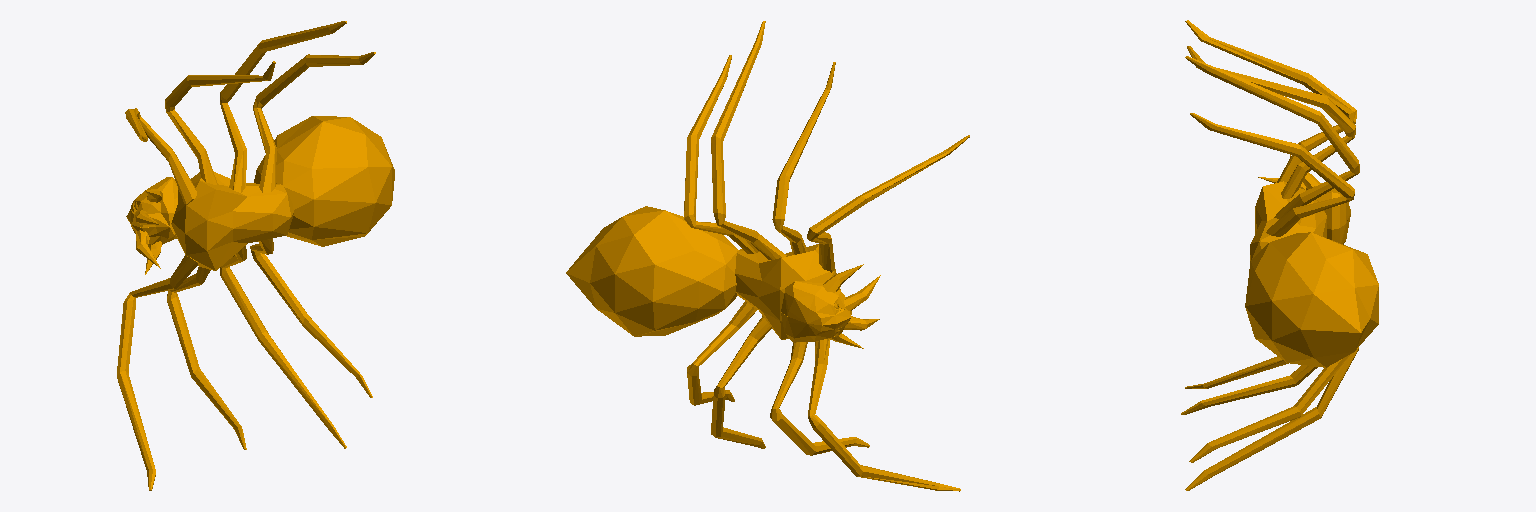
The robot description file, URDF, robot "assimp_spider":
<robot name="assimp_spider">
  <link name="base">
    <visual><geometry><mesh filename="assimp_spider.normalized.obj"/></geometry></visual>
    <collision><geometry><mesh filename="assimp_spider.collision_box.obj"/></geometry></collision>
  </link>
</robot>

--- Facts derived from the render (not from the file) ---
The picture shows the robot from 3 angles, left to right: view 1: azimuth 30°, elevation 25°; view 2: azimuth 150°, elevation 25°; view 3: azimuth 270°, elevation 25°; orthographic projection.
Model assimp_spider with 1 links and 0 joints (none), rooted at base, posed all joints at 0.
Links seen in each view (by area): view 1: base; view 2: base; view 3: base.
Link boxes in pixels (left/top/right/bottom): base: left=117, top=21, right=394, bottom=490; base: left=566, top=21, right=969, bottom=491; base: left=1181, top=20, right=1378, bottom=490.
Size in the robot's own frame: 0.7787 by 0.4123 by 1 metres.
1 mesh visuals loaded from 1 distinct referenced files (1 OBJ).
